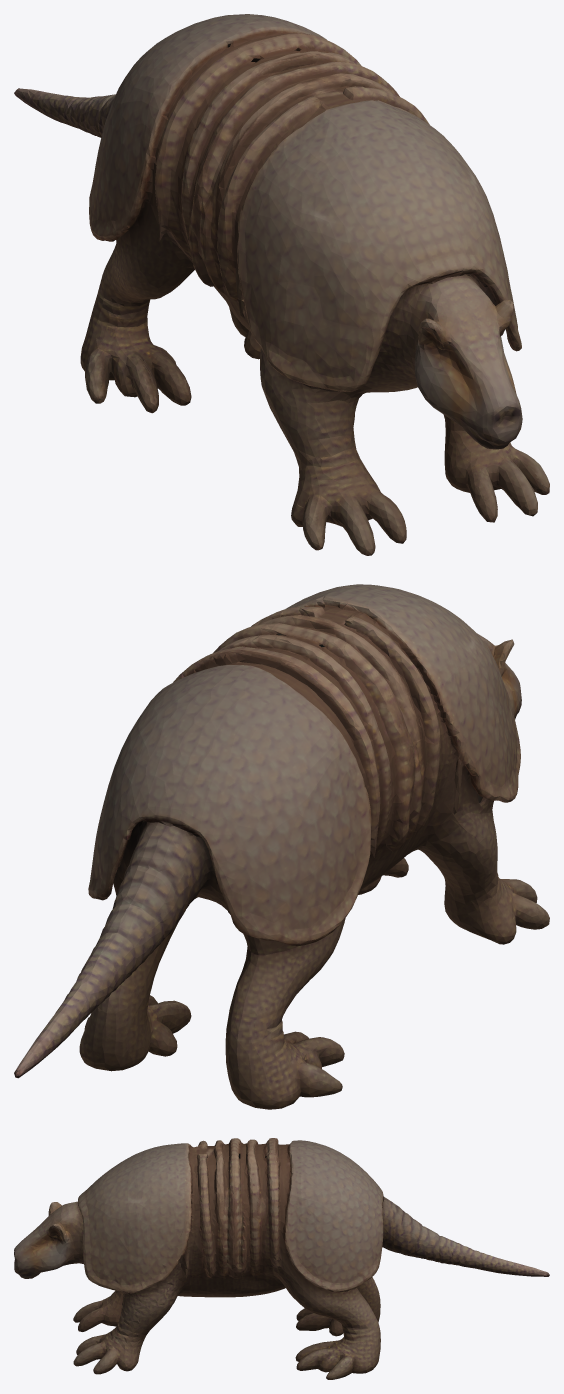
3 views of the same model, one above another, from view 1: azimuth 30°, elevation 25°; view 2: azimuth 150°, elevation 25°; view 3: azimuth 270°, elevation 25° (orthographic). The views are drawn at different scales.
Parts seen in each view (by area): view 1: world; view 2: world; view 3: world.
Part boxes in pixels (bbox=[...]): world: bbox=[14, 14, 549, 555]; world: bbox=[14, 584, 549, 1109]; world: bbox=[14, 1138, 549, 1379].
Size of the model in its own units: 0.2935 by 0.4175 by 1.
1 material, 1 textured.
